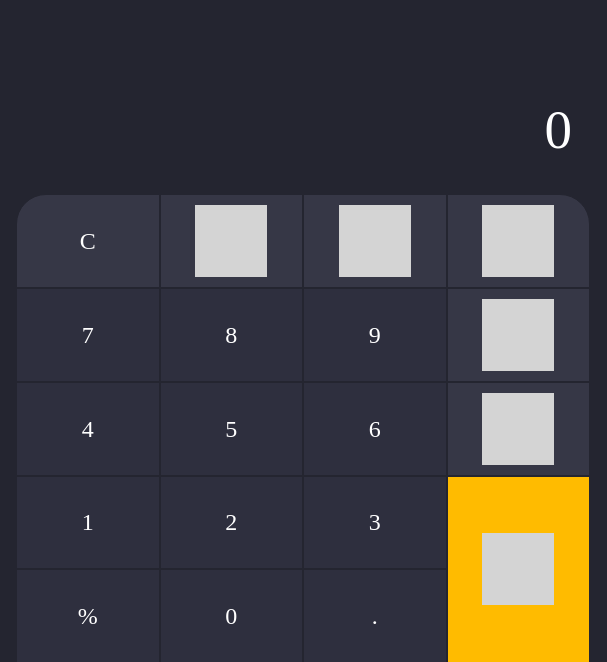
Test: Calculator tests › Calculator logic '2 × 7'
The width and height of the screenshot is (607, 662).
Click the button "2". click: (231, 522)
box: [160,476,303,569]
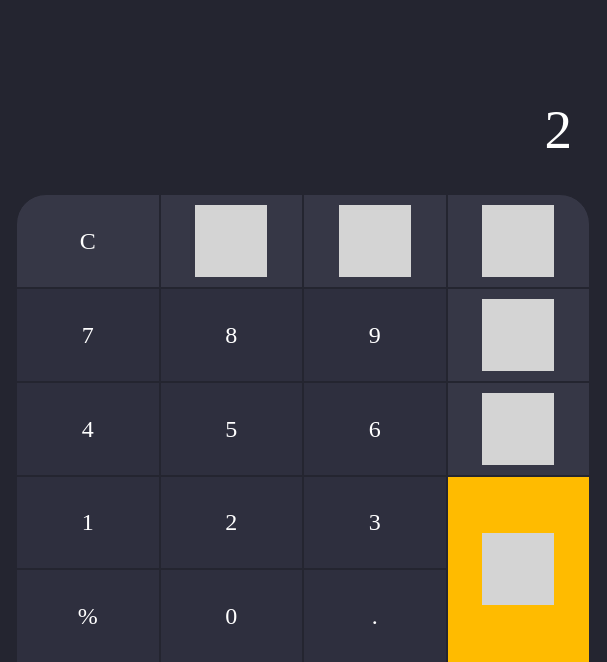
Click the 2nd button with alt text "×". click: (375, 241)
box: [303,194,446,288]
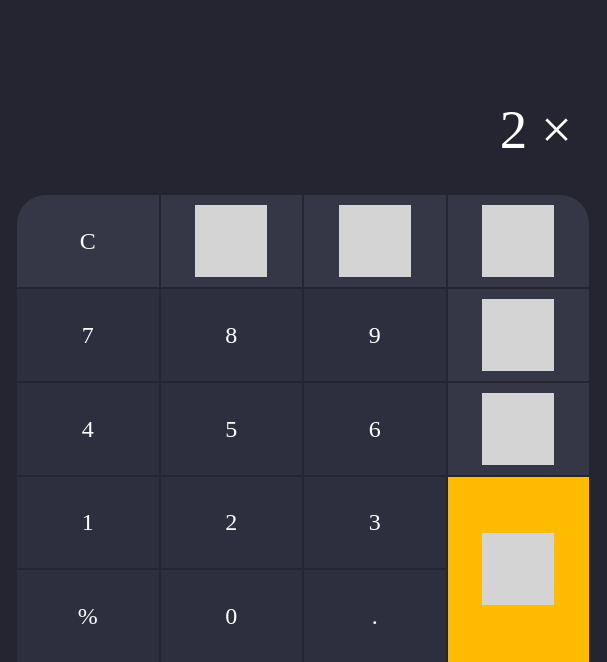
Click the button "7". click: (88, 335)
box: [16,288,160,382]
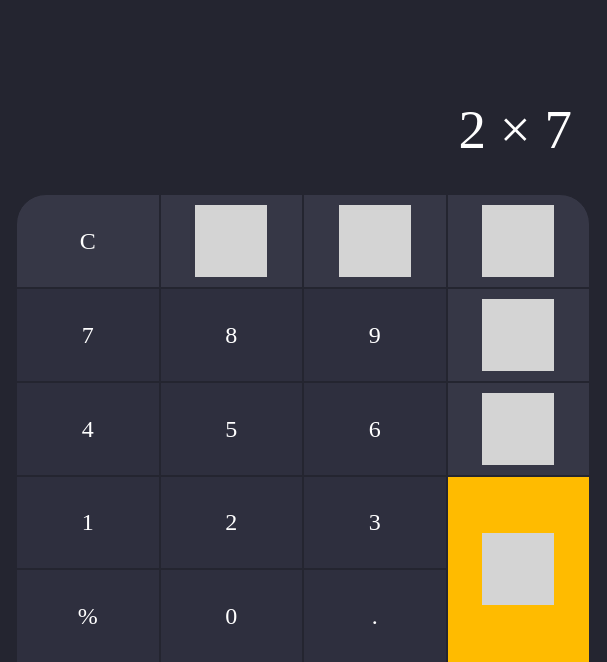
Click the 6th button with alt text "=". click: (518, 569)
box: [446,476,590,661]
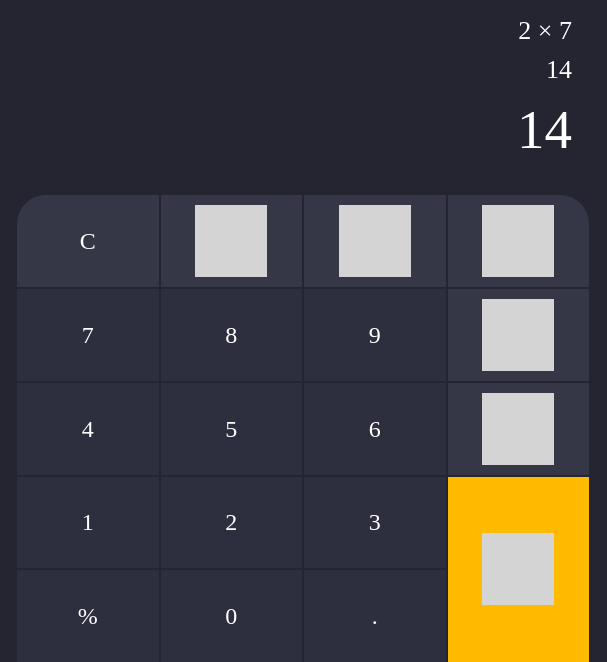
Check: the text with test id "expression" reads "14", box [517,99,572,160]
Check: the element with test id "history" reads "2 × 7 14", box [518,16,572,84]
